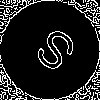S: (25, 25, 81, 82)
